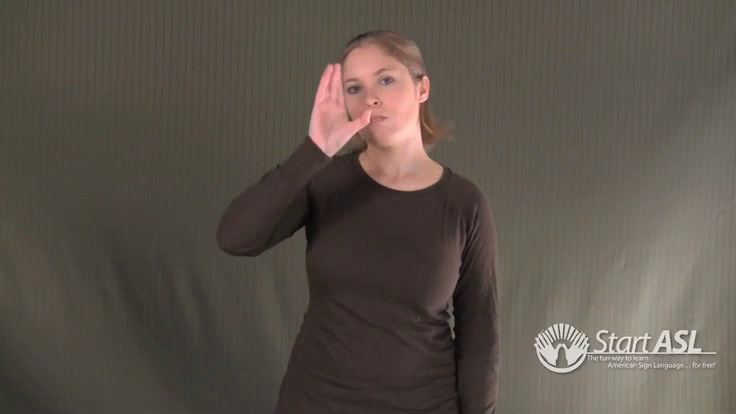drink: (283, 56, 380, 157)
